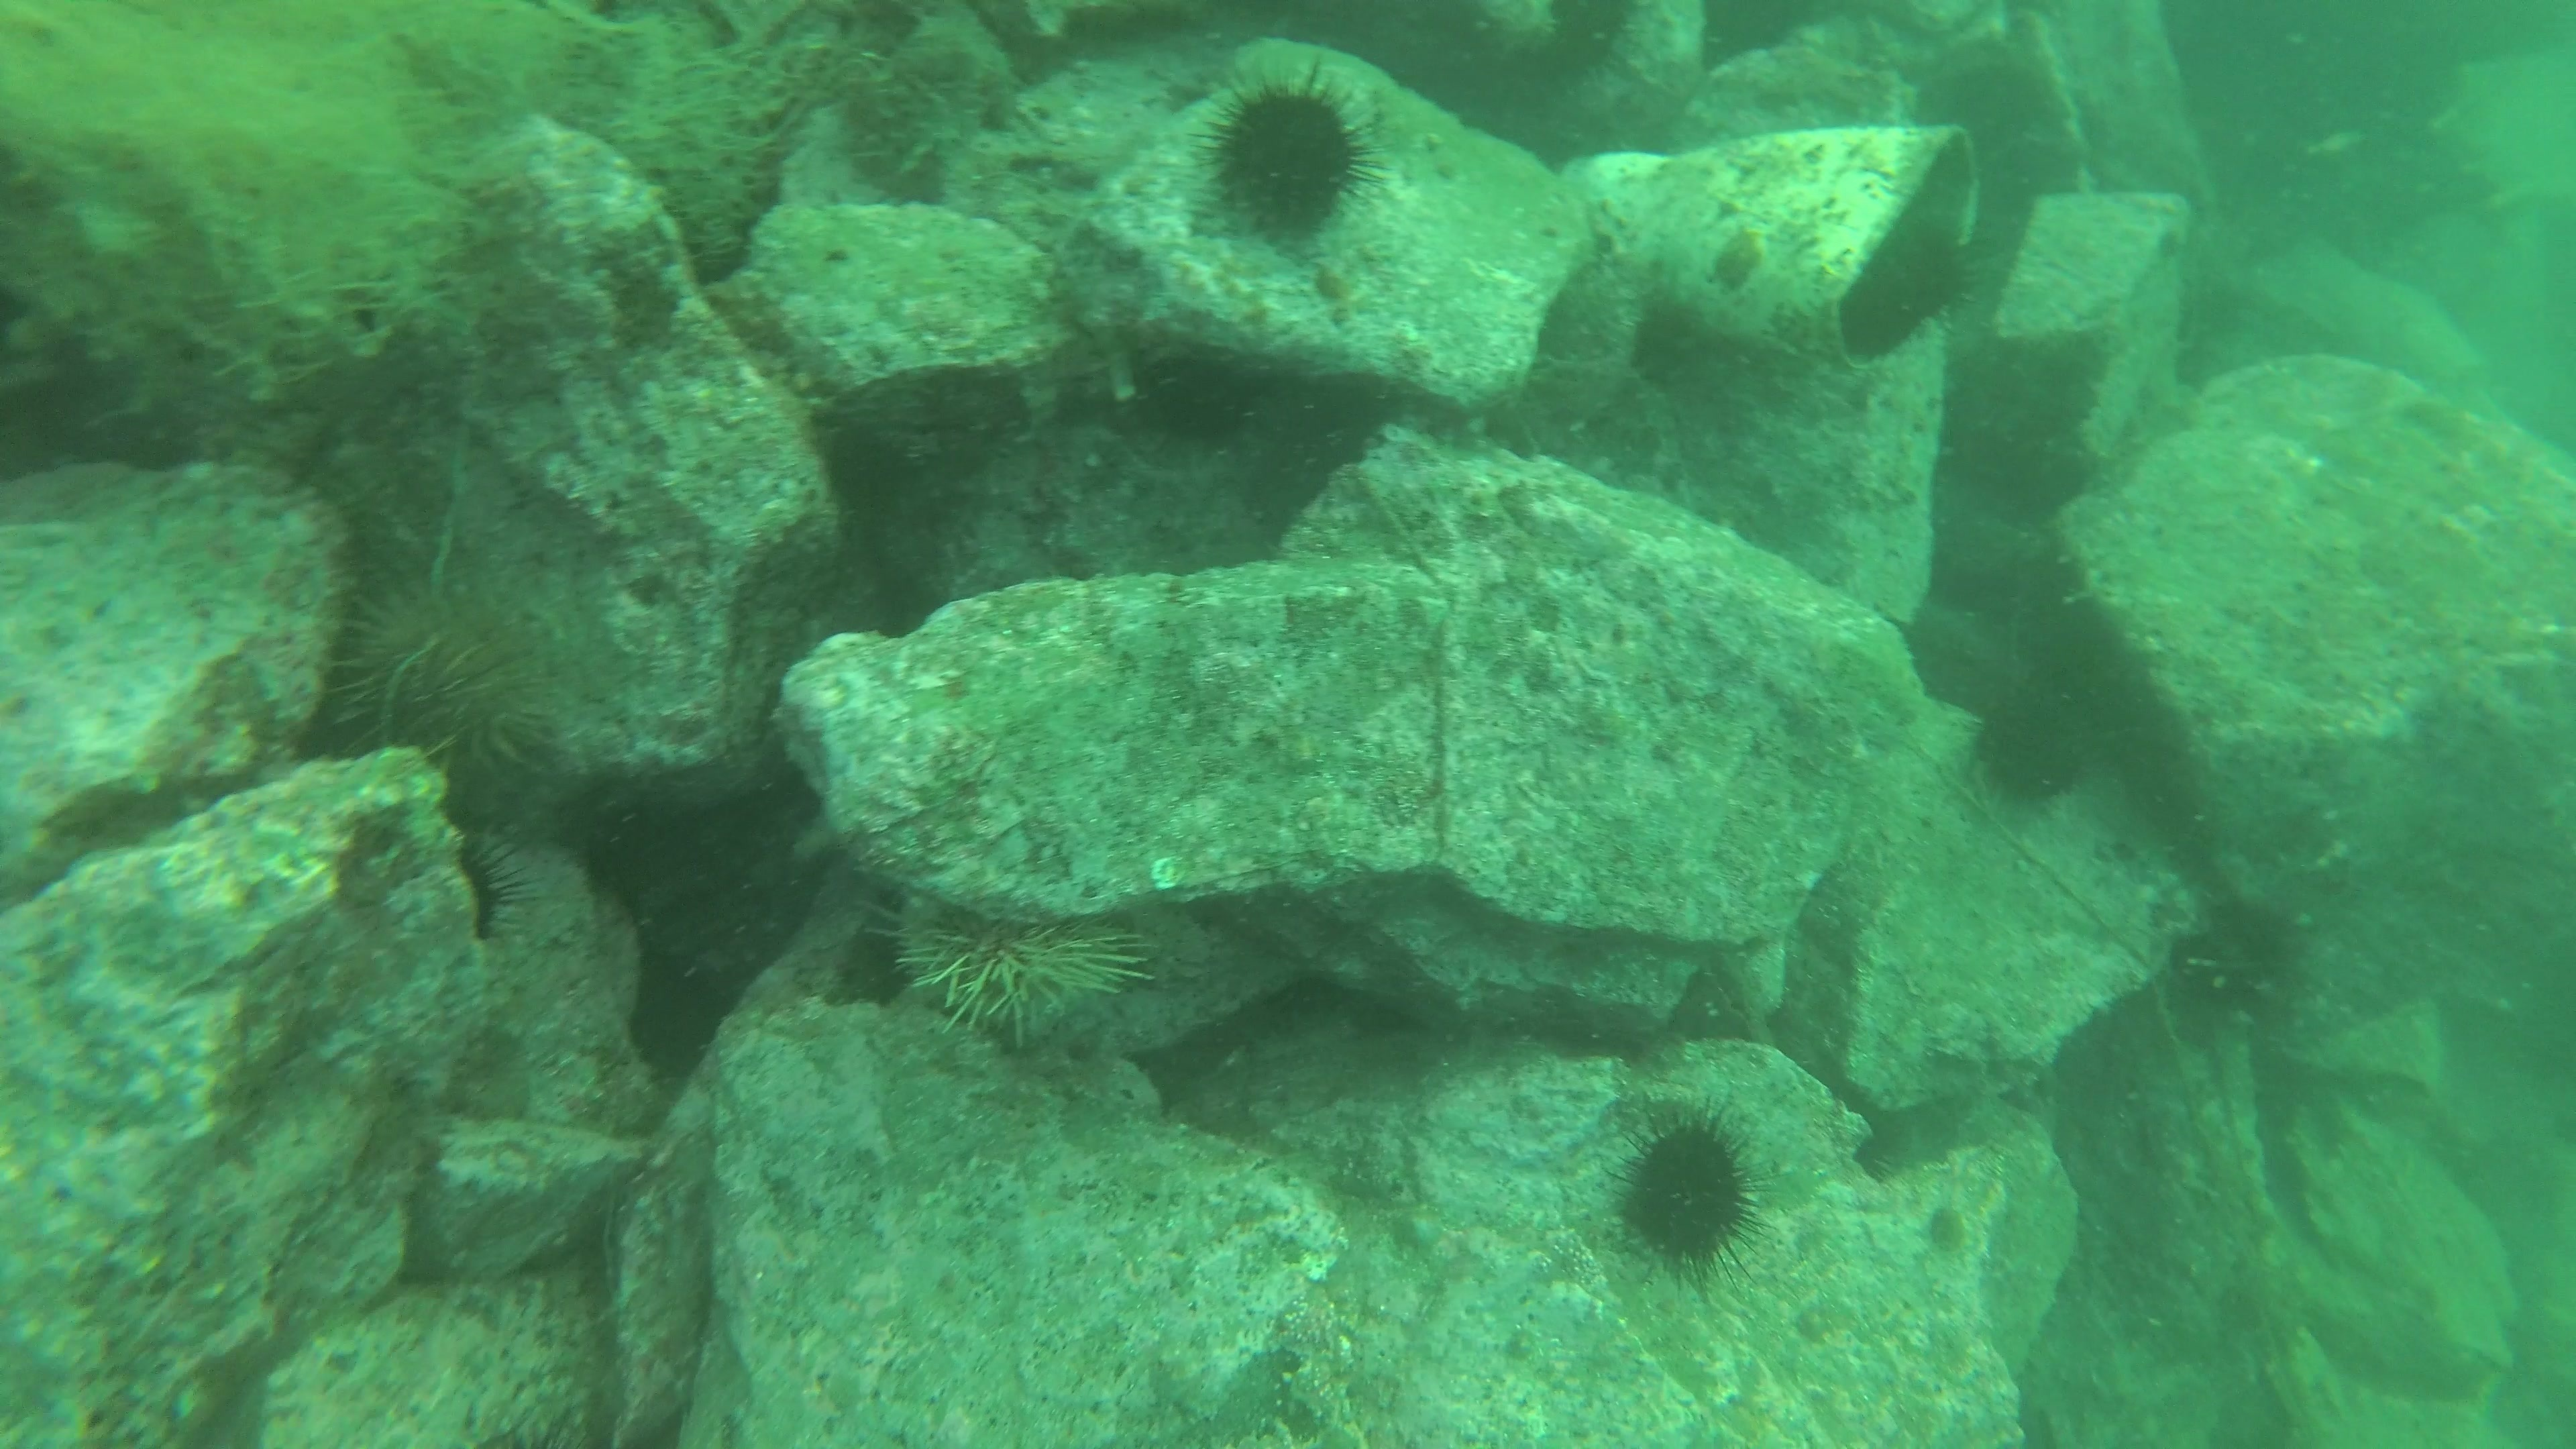echinus: (331, 570, 559, 784), (886, 892, 1152, 1049), (1192, 65, 1385, 248), (1606, 1104, 1767, 1277), (1831, 216, 1978, 366), (1964, 672, 2100, 810)
